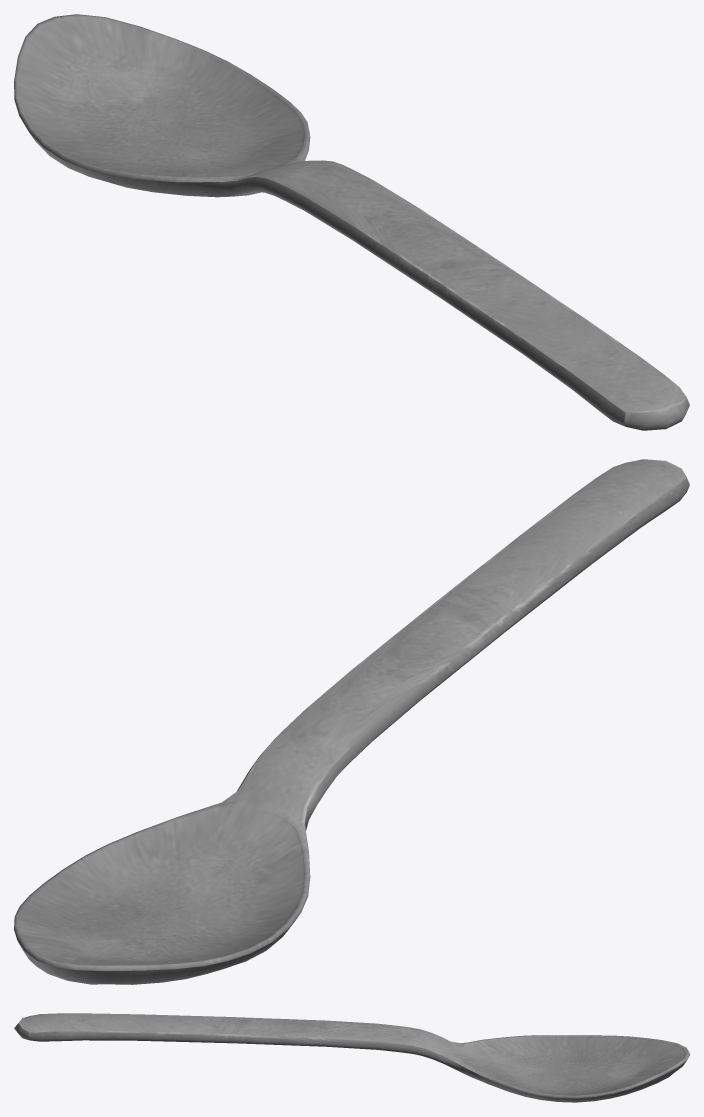
File: Spoon.fbx
3 views of the same model, one above another, from view 1: azimuth 30°, elevation 25°; view 2: azimuth 150°, elevation 25°; view 3: azimuth 270°, elevation 25° (orthographic). The views are drawn at different scales.
Parts seen in each view (by area): view 1: Spoon; view 2: Spoon; view 3: Spoon.
Boxes of the visible parts, x1,y1,x2,y2 form: Spoon: (14,14,689,430); Spoon: (14,459,689,984); Spoon: (14,1013,689,1102).
Size of the model in its own units: 3.63 by 1.71 by 16.98.
